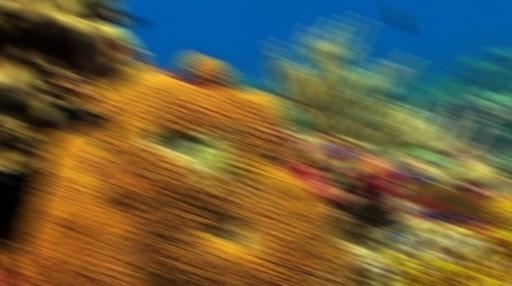Fish: (44, 107, 101, 132), (388, 0, 407, 30), (325, 143, 356, 160), (393, 231, 428, 246), (397, 166, 426, 183), (115, 11, 144, 24), (412, 206, 439, 219), (387, 217, 404, 230), (438, 208, 455, 219), (459, 214, 476, 223), (239, 83, 251, 90)
